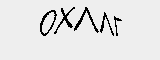Г: (111, 13, 127, 39)
Л: (71, 7, 100, 35), (96, 12, 114, 36)
О: (39, 7, 56, 37)
Х: (52, 7, 73, 37)
